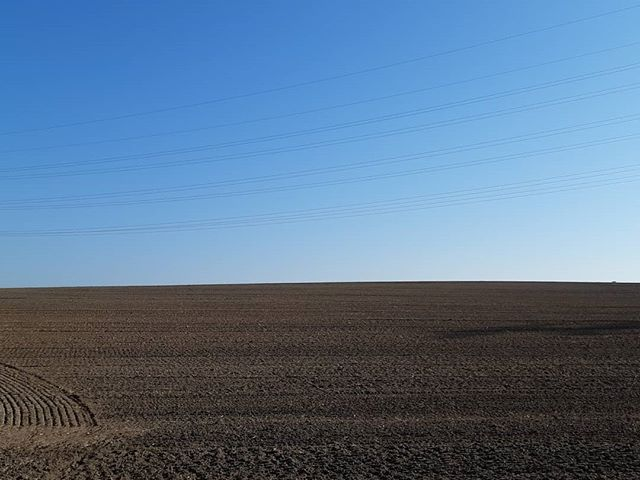sky: (1, 1, 640, 276)
